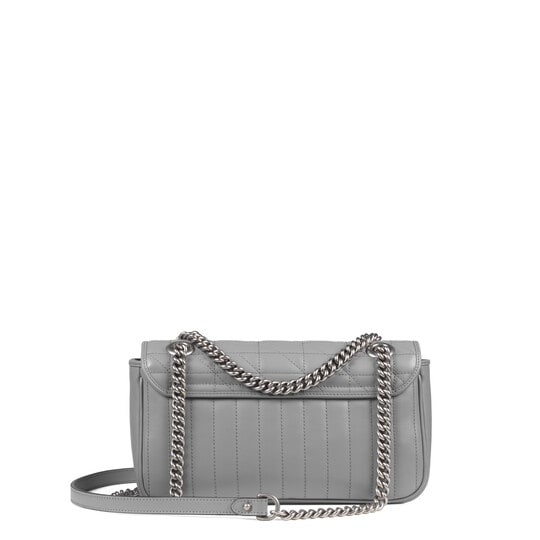Gucci: (124, 326, 446, 516)
